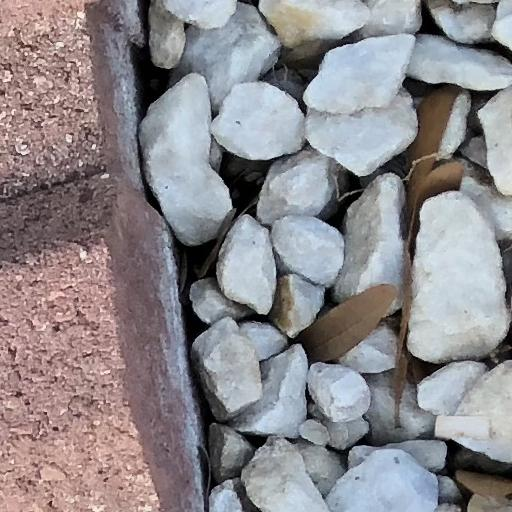smoke: (435, 416, 491, 439)
